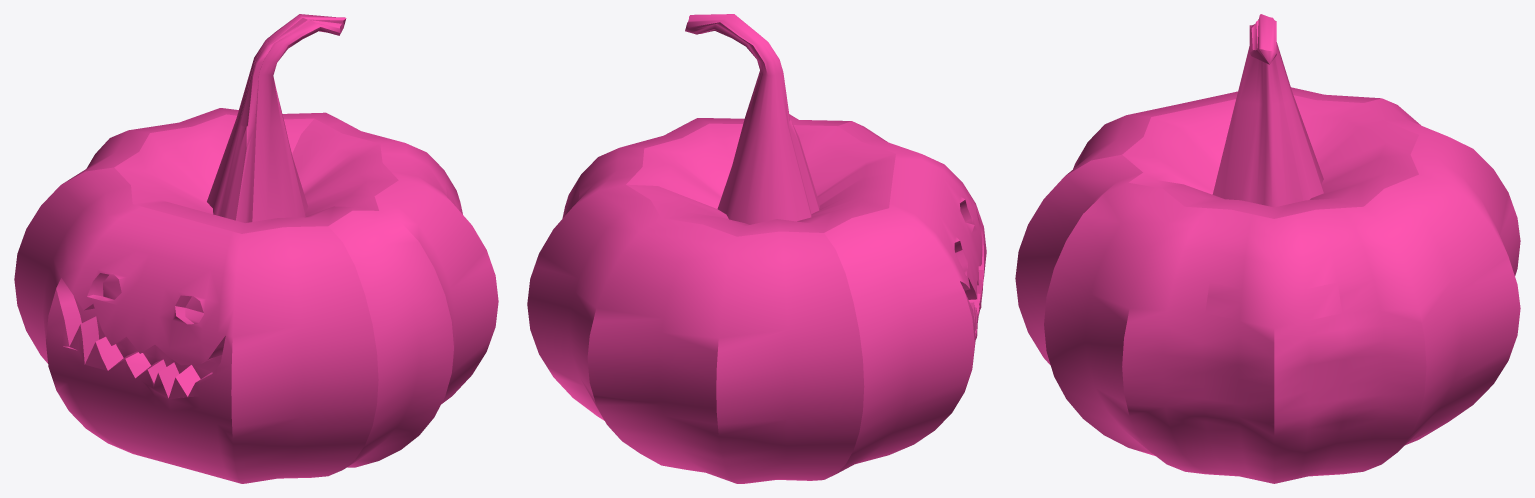
3 renders of one model, left to right at view 1: azimuth 30°, elevation 25°; view 2: azimuth 150°, elevation 25°; view 3: azimuth 270°, elevation 25°, orthographic. The views are drawn at different scales.
Visible parts, largest first — view 1: split_parent_0; view 2: split_parent_0; view 3: split_parent_0.
Part boxes in pixels (x1=…): split_parent_0: x1=14, y1=14, x2=498, y2=483; split_parent_0: x1=527, y1=14, x2=986, y2=483; split_parent_0: x1=1015, y1=14, x2=1520, y2=483.
Size of the model in its own units: 1 by 0.9663 by 0.9814.
